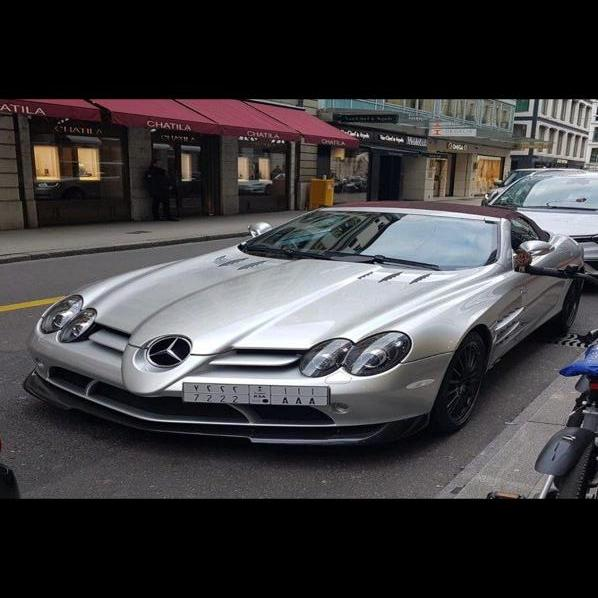numberplate: (180, 379, 334, 410)
